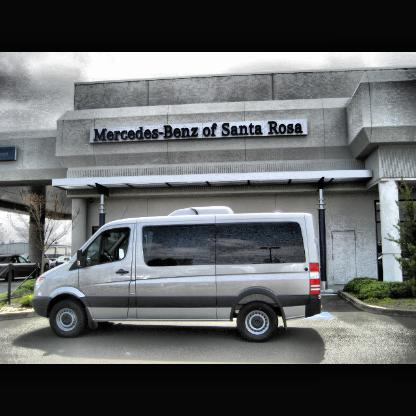Mercedes-Benz Sprinter Van 2012: (32, 206, 324, 344)
